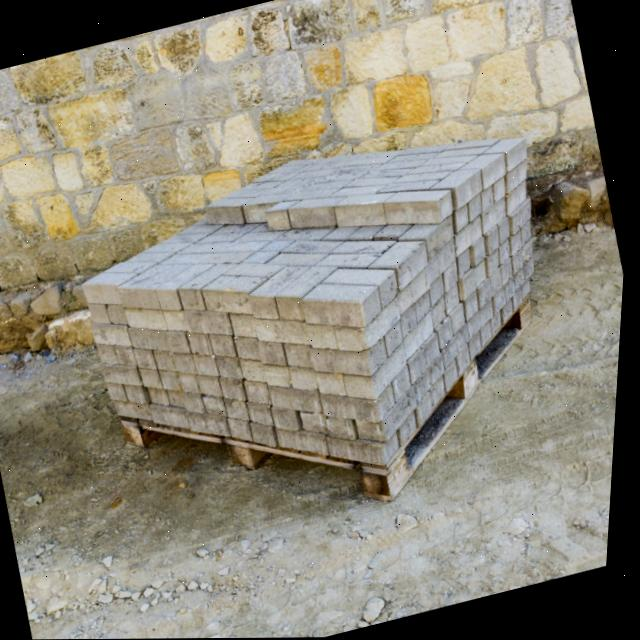bricks: (83, 138, 533, 465)
